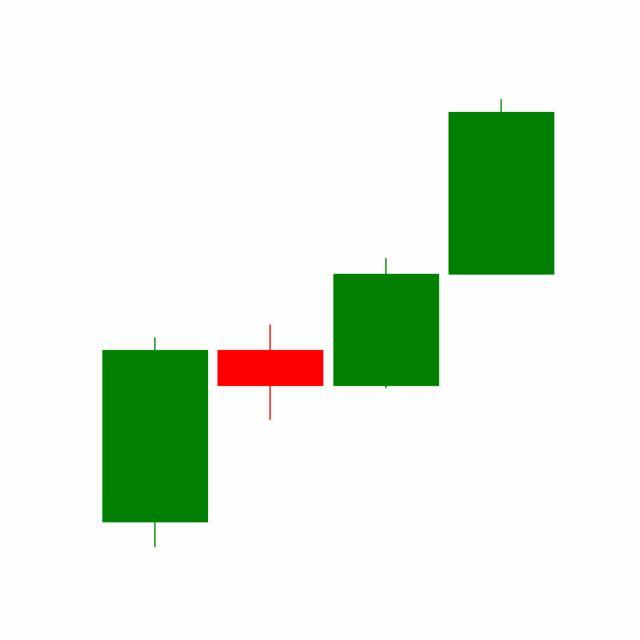Marubozu: (329, 257, 445, 391)
